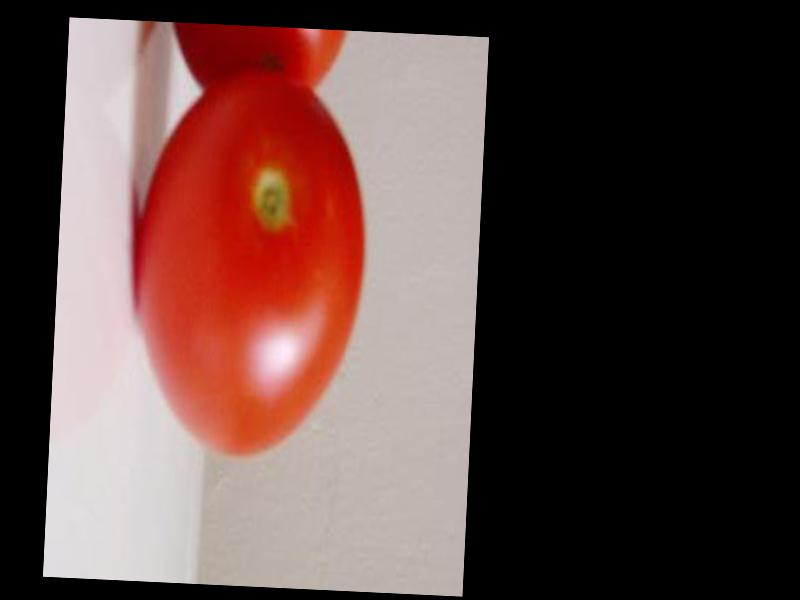Tomato: (128, 70, 372, 462)
